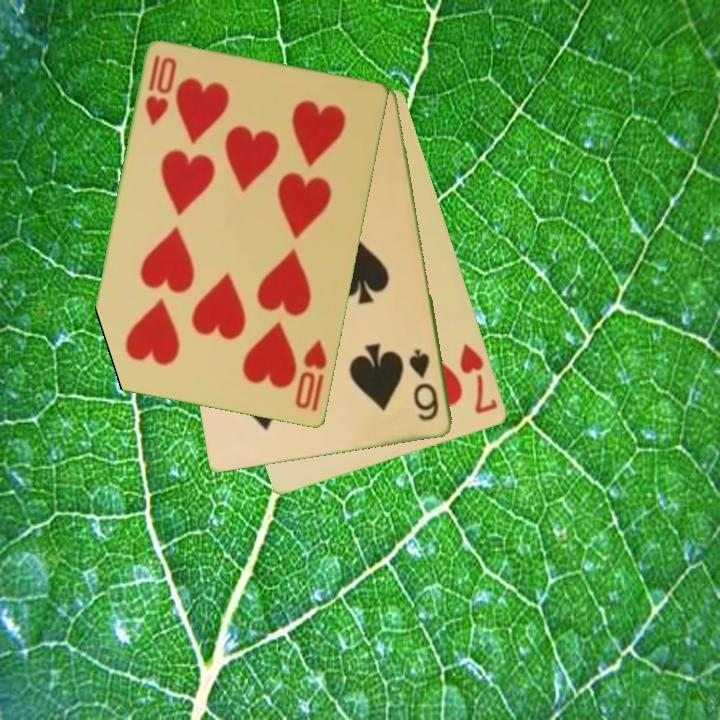10h: (142, 51, 180, 129), (292, 336, 330, 413)
6s: (406, 346, 442, 424)
7h: (456, 340, 501, 417)
